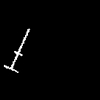double_crochet: (4, 29, 29, 72)
